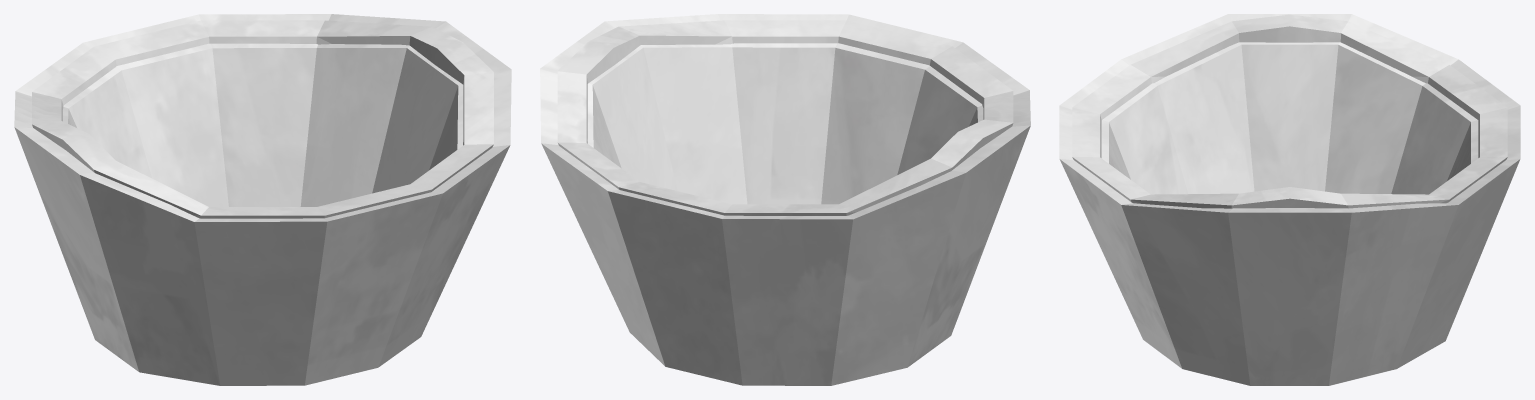
File: Basket.fbx
3 views of the same model, side by side, from view 1: azimuth 30°, elevation 25°; view 2: azimuth 150°, elevation 25°; view 3: azimuth 270°, elevation 25° (orthographic). The views are drawn at different scales.
Parts seen in each view (by area): view 1: basket_COL, basket; view 2: basket_COL, basket; view 3: basket_COL, basket.
Part boxes in pixels (bbox=[...]): basket_COL: bbox=[14, 14, 511, 385]; basket: bbox=[32, 20, 493, 218]; basket_COL: bbox=[540, 14, 1030, 385]; basket: bbox=[557, 20, 1013, 215]; basket_COL: bbox=[1059, 14, 1520, 385]; basket: bbox=[1072, 14, 1507, 208].
Size of the model in its own units: 1.48 by 0.7533 by 1.45.
